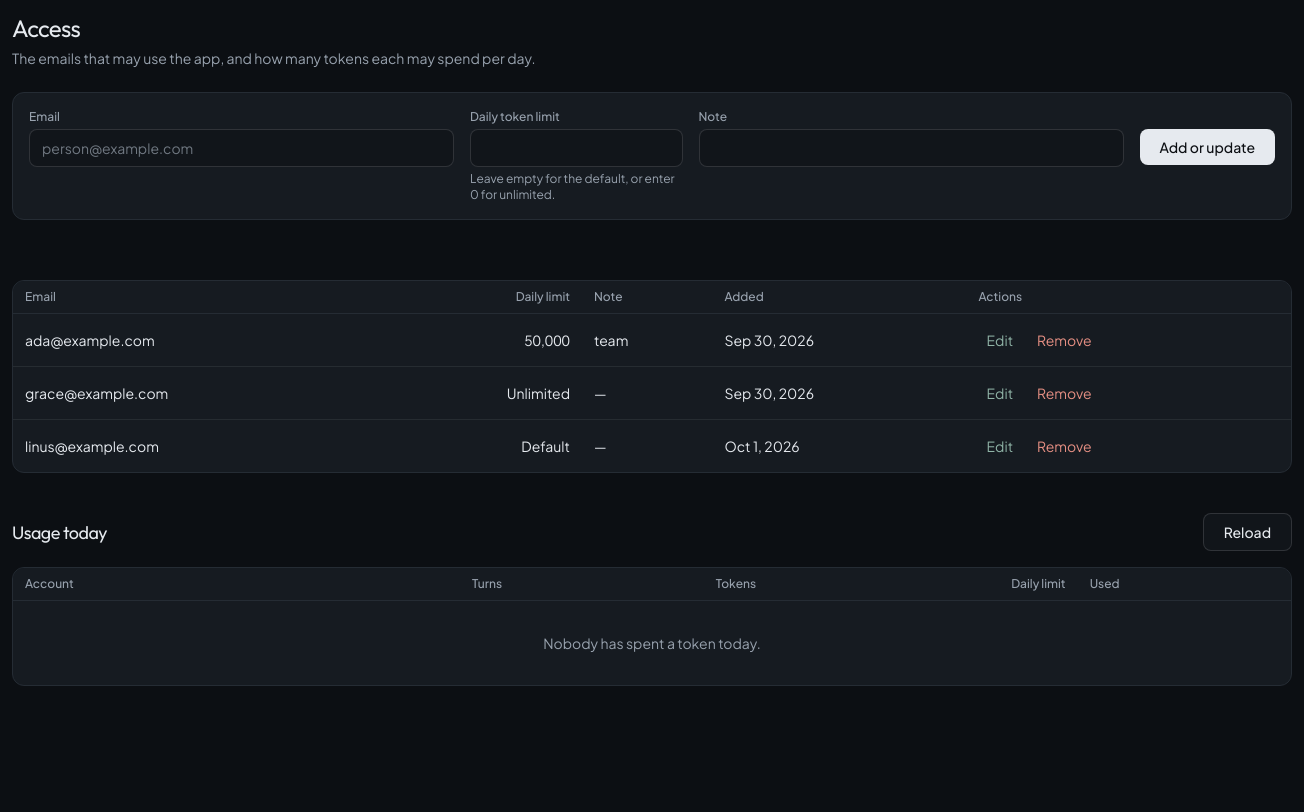
Test: AccessClientPage › keeps the form and says so when saving fails
The width and height of the screenshot is (1304, 812).
Type "new@example.com" into the field labelled "Email".
click(242, 148); type("new@example.com")  # box [29,129,454,167]
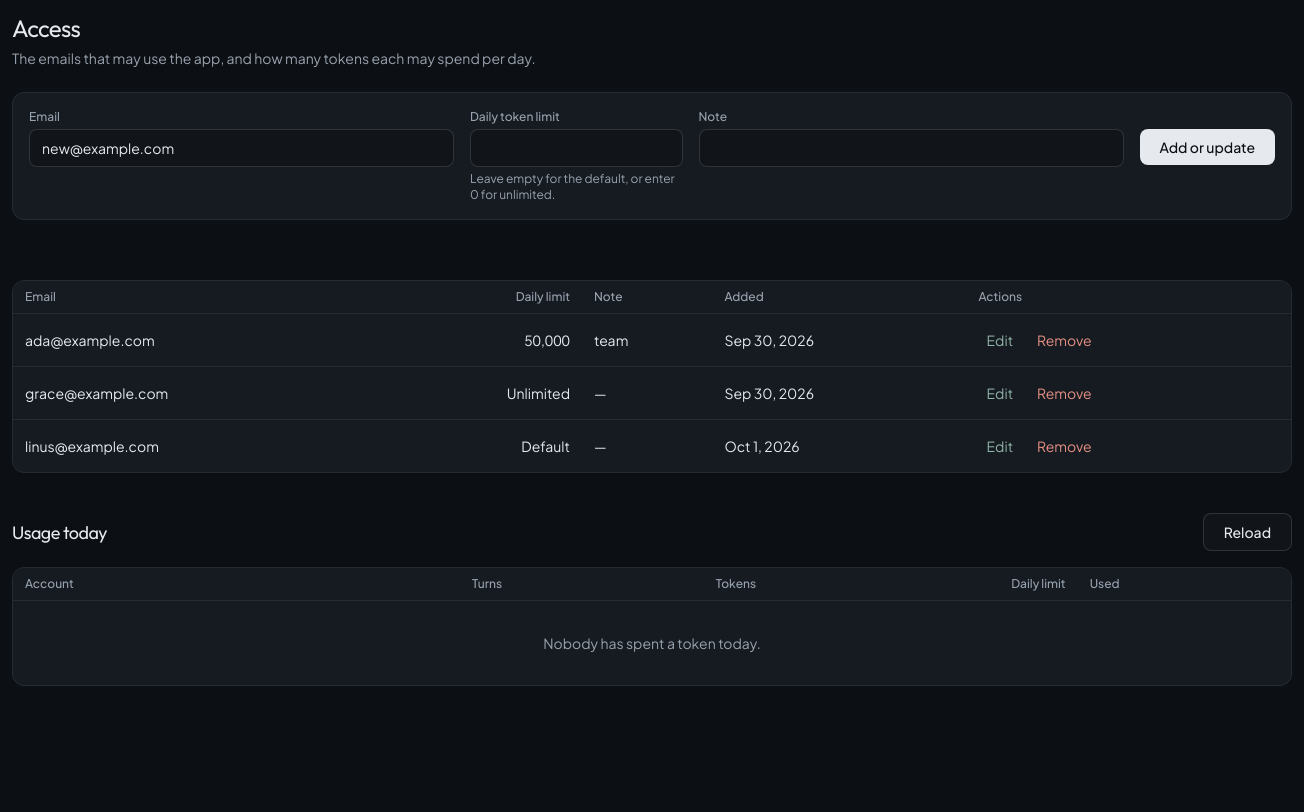
Click the button "Add or update".
click(1207, 147)  # box [1140,129,1275,165]
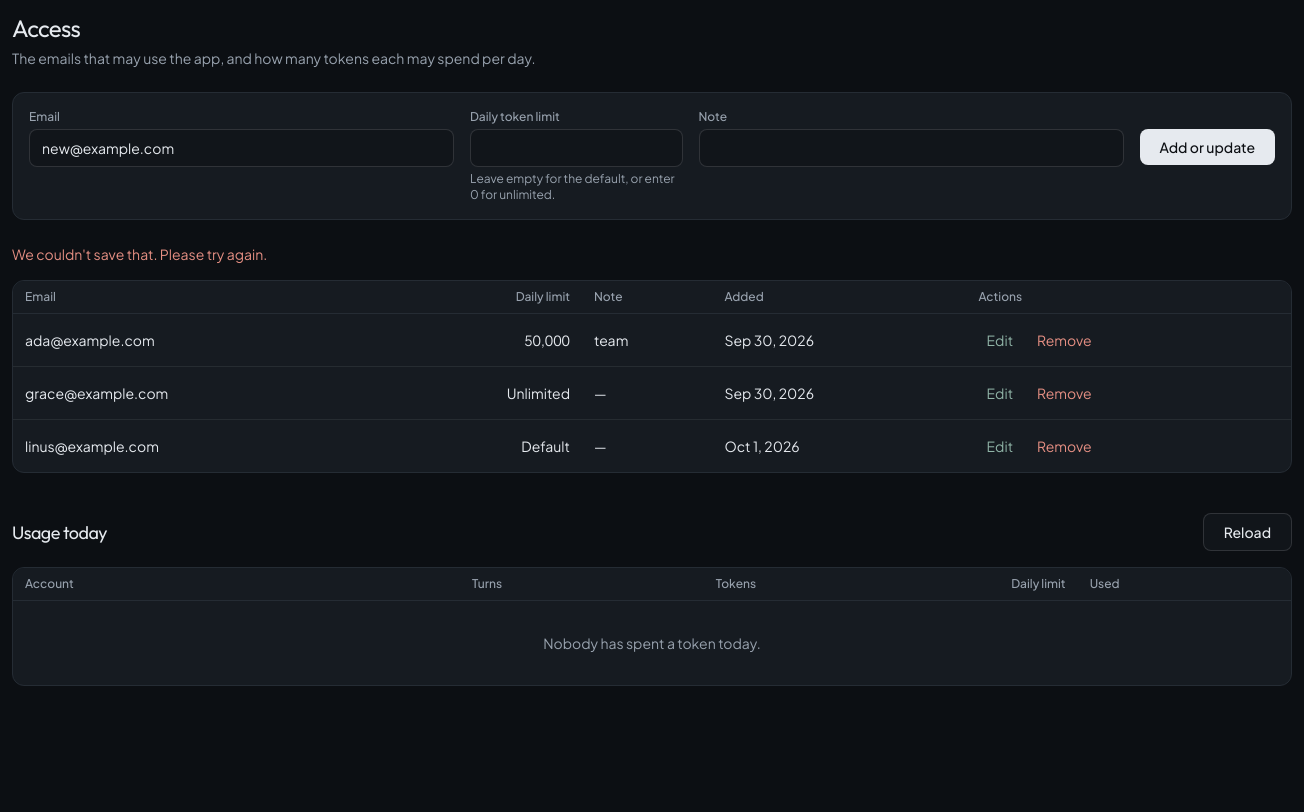
Now the message with test id "access-message" reads "We couldn't save that. Please try again.", box [12,245,267,263]
